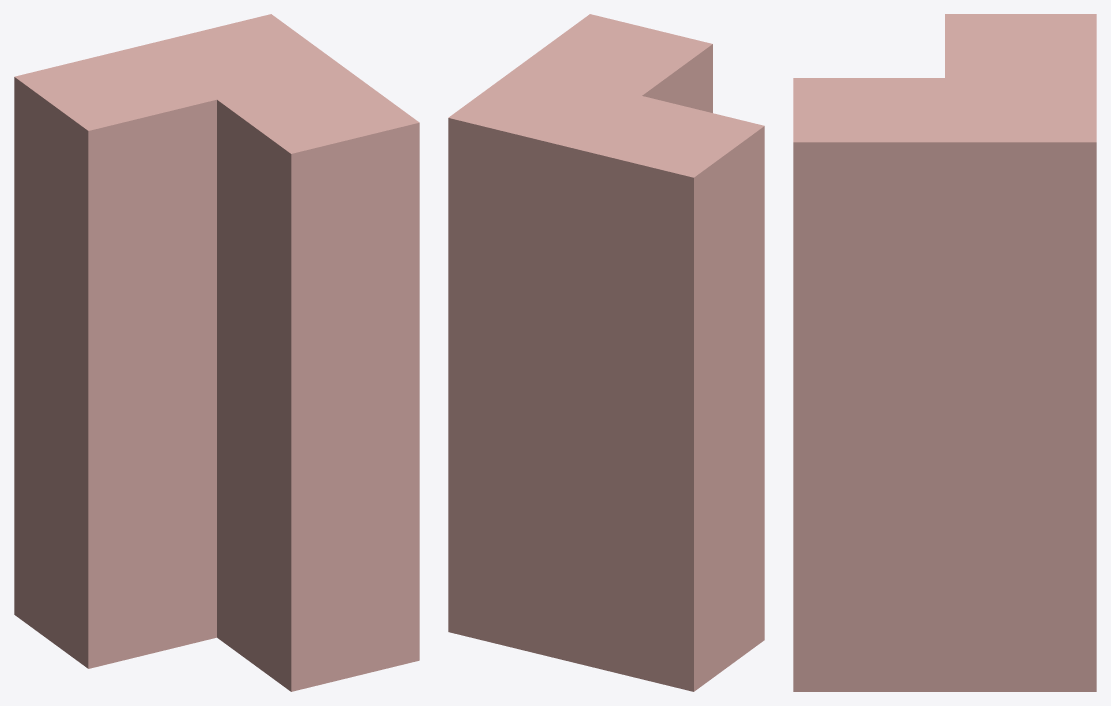
File: Wall_Curve.fbx
3 views of the same model, side by side, from view 1: azimuth 30°, elevation 25°; view 2: azimuth 150°, elevation 25°; view 3: azimuth 270°, elevation 25° (orthographic). The views are drawn at different scales.
Parts seen in each view (by area): view 1: Wall Curve; view 2: Wall Curve; view 3: Wall Curve.
Boxes of the visible parts, x1=… form: Wall Curve: x1=14, y1=14, x2=419, y2=691; Wall Curve: x1=448, y1=14, x2=764, y2=691; Wall Curve: x1=793, y1=14, x2=1096, y2=691.
Bounding box in the file's own units: 500 × 1000 × 500.
